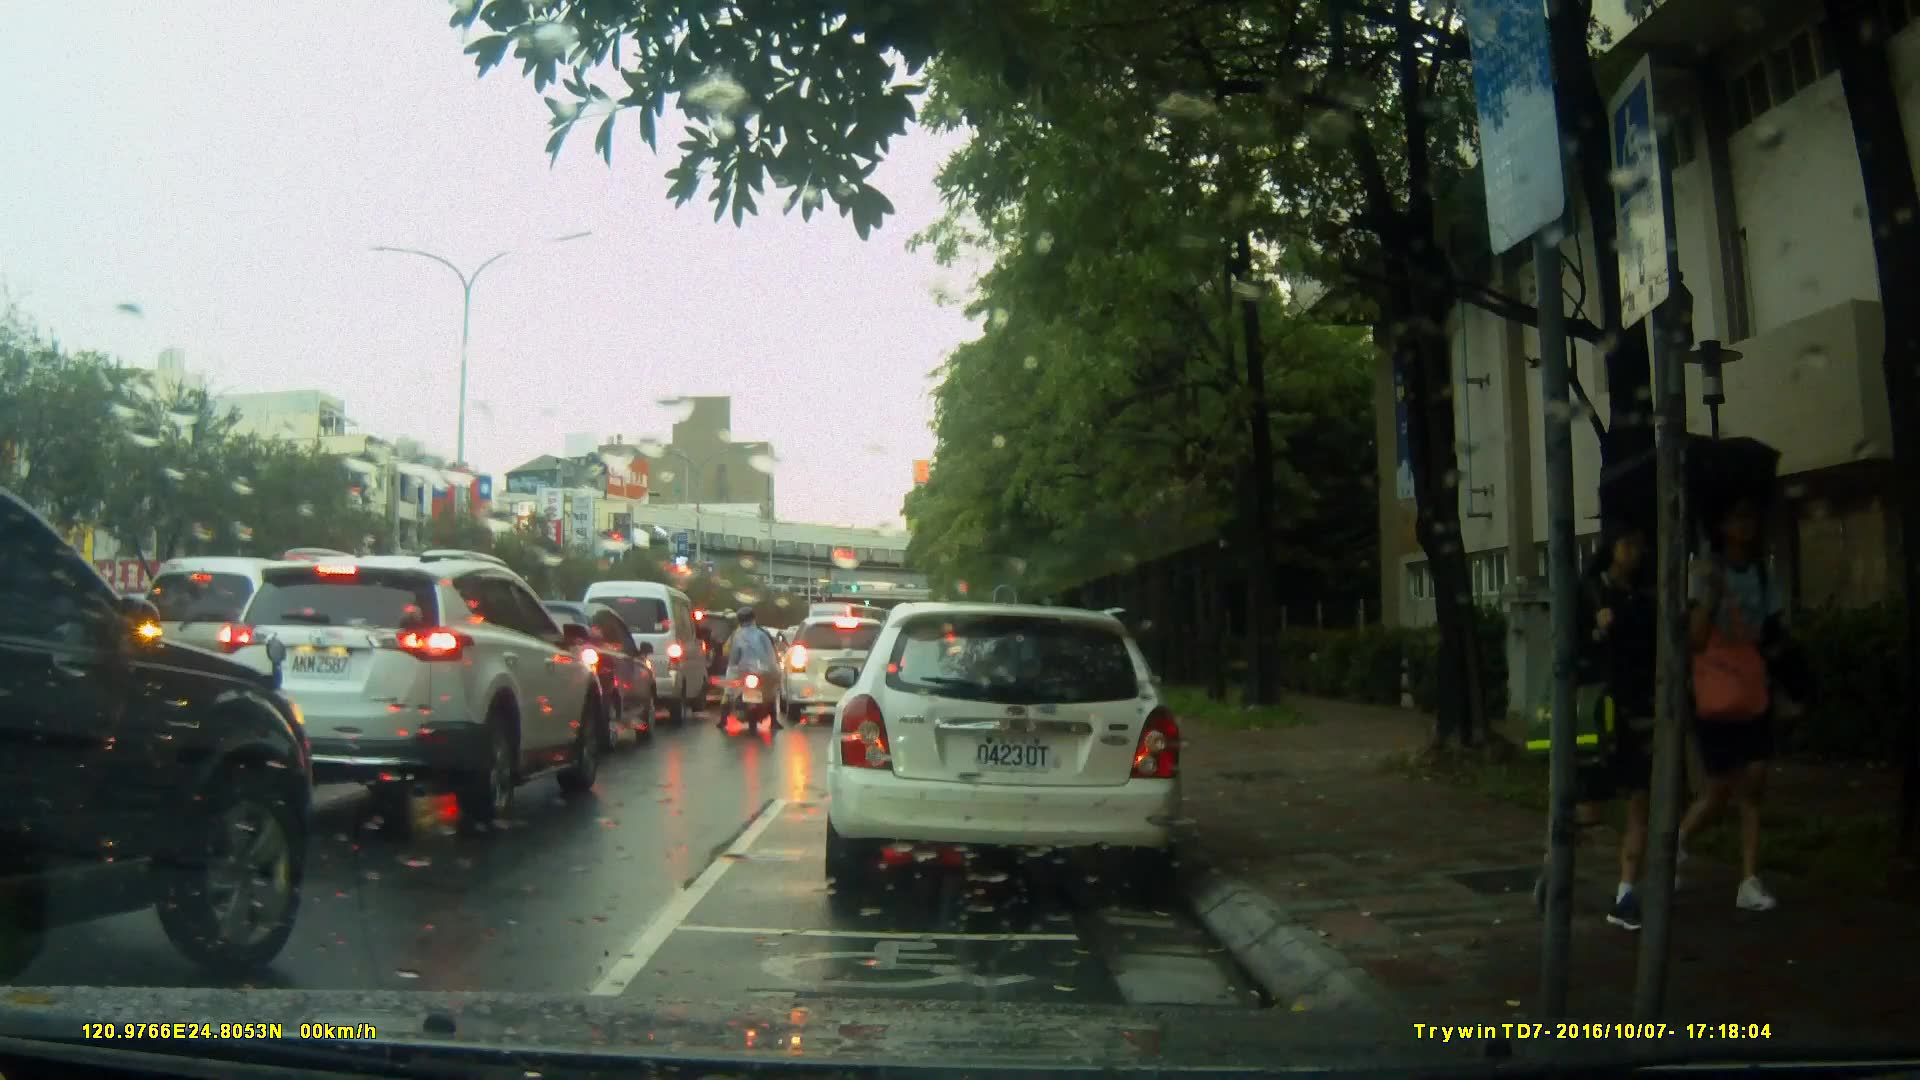pedestrian: (1547, 478, 1693, 955), (1675, 475, 1790, 926)
rider: (719, 602, 782, 734)
vehicle: (1, 472, 320, 987), (815, 593, 1204, 909), (197, 546, 613, 826), (127, 553, 329, 732), (463, 598, 656, 757), (572, 580, 711, 727), (779, 615, 910, 723), (656, 607, 765, 709)
